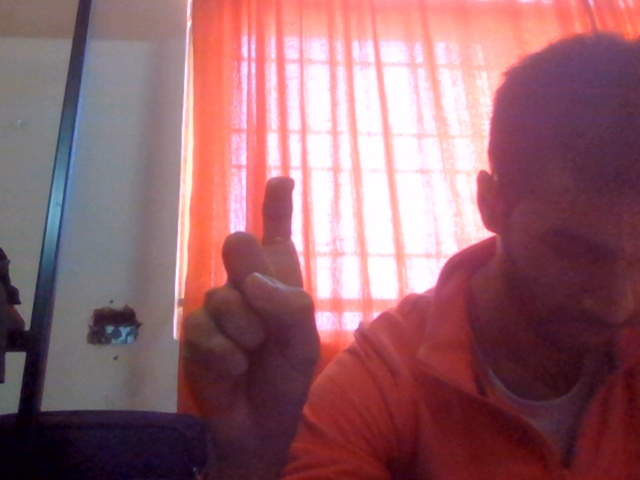X: (137, 142, 361, 469)
